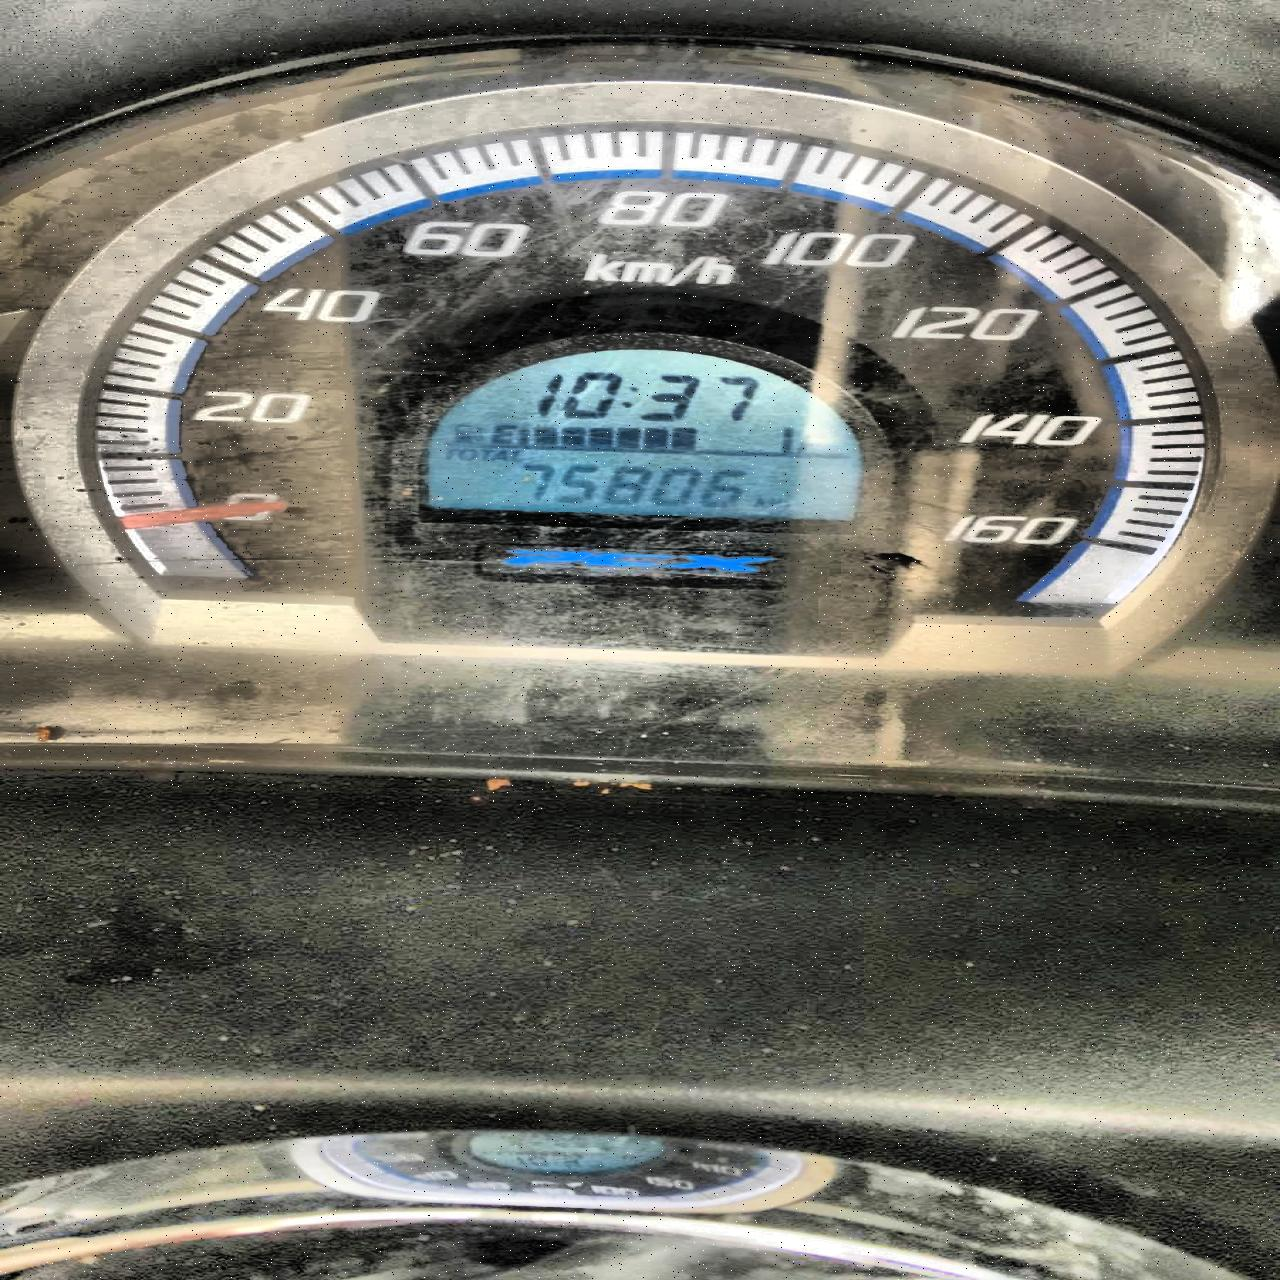0: (561, 369, 618, 420), (652, 465, 697, 506)
1: (524, 370, 561, 417)
3: (642, 372, 699, 422)
5: (556, 463, 598, 503)
6: (700, 468, 745, 509)
7: (713, 373, 760, 422), (515, 463, 551, 503)
8: (600, 465, 649, 504)
X: (485, 422, 517, 444), (619, 384, 641, 409), (796, 434, 824, 451), (457, 448, 478, 462), (437, 447, 457, 461), (477, 448, 492, 462), (767, 497, 784, 509), (493, 449, 509, 462), (749, 497, 765, 509), (509, 449, 523, 462)
odometer: (377, 328, 905, 538)
